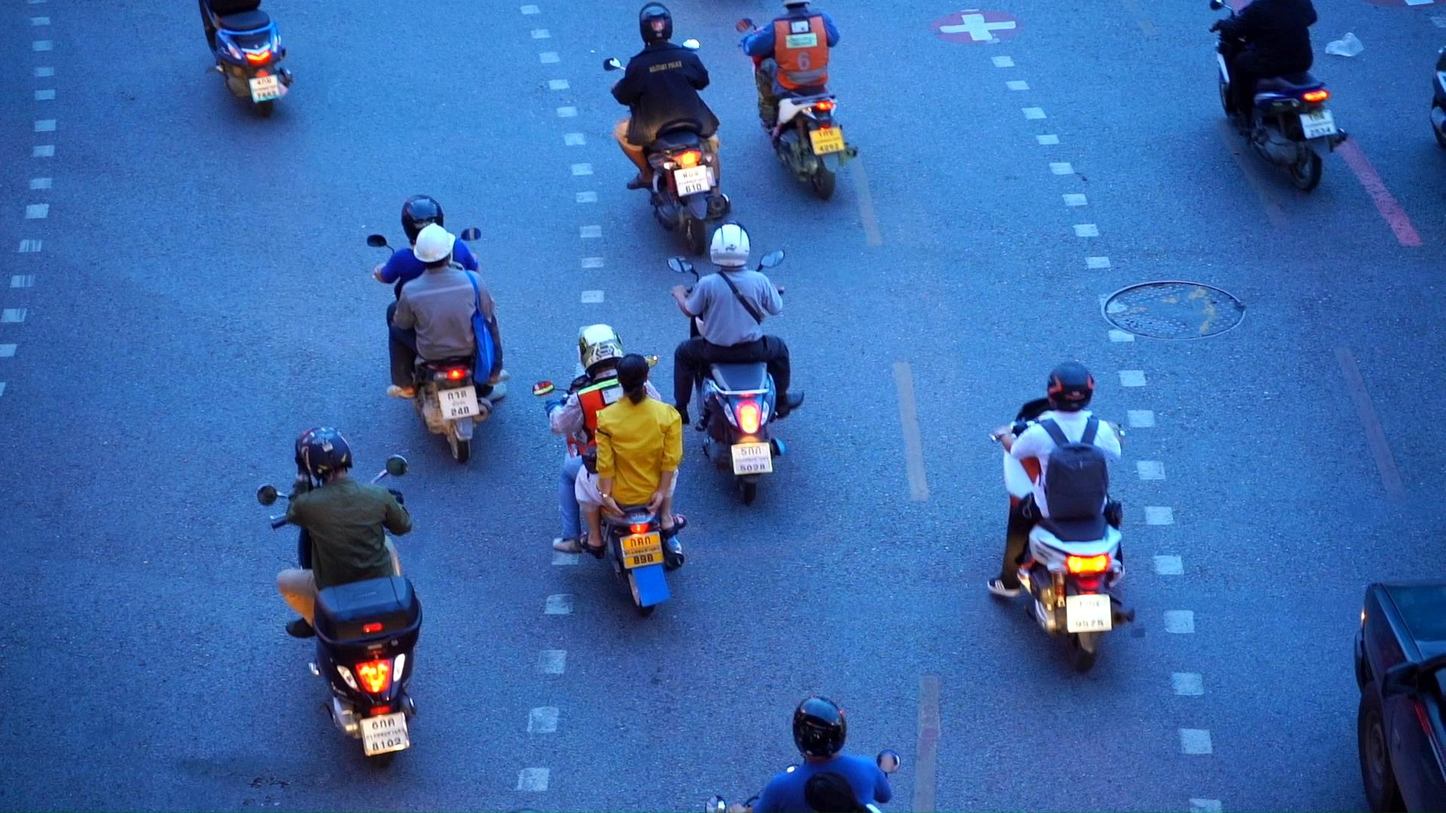driver: (256, 425, 424, 770), (986, 361, 1135, 674), (533, 323, 689, 617), (666, 219, 805, 508), (367, 194, 510, 463), (602, 1, 731, 256), (1208, 0, 1348, 189), (734, 0, 859, 201), (704, 695, 902, 813), (197, 0, 294, 119)
helmet: (793, 696, 847, 760), (297, 426, 353, 482), (576, 323, 625, 380), (1047, 361, 1095, 413), (401, 194, 444, 247), (413, 223, 457, 270), (710, 219, 751, 268), (639, 1, 673, 43)
no-helmet: (804, 771, 873, 813), (616, 353, 650, 406)
